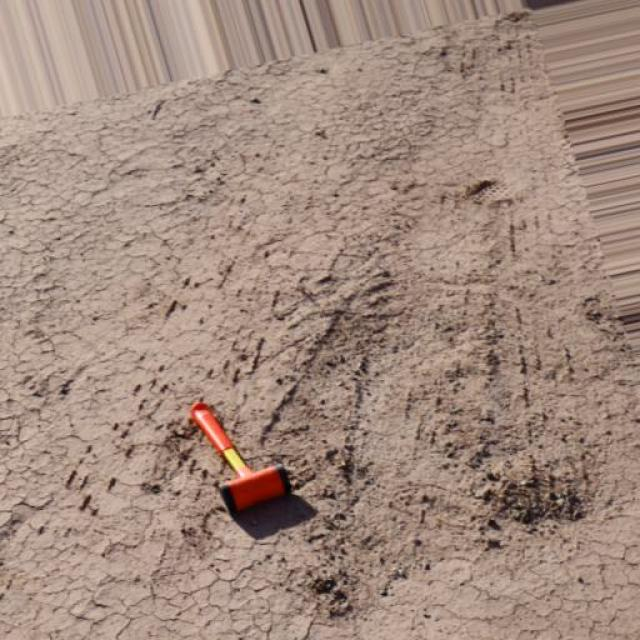mallet: (186, 399, 292, 515)
